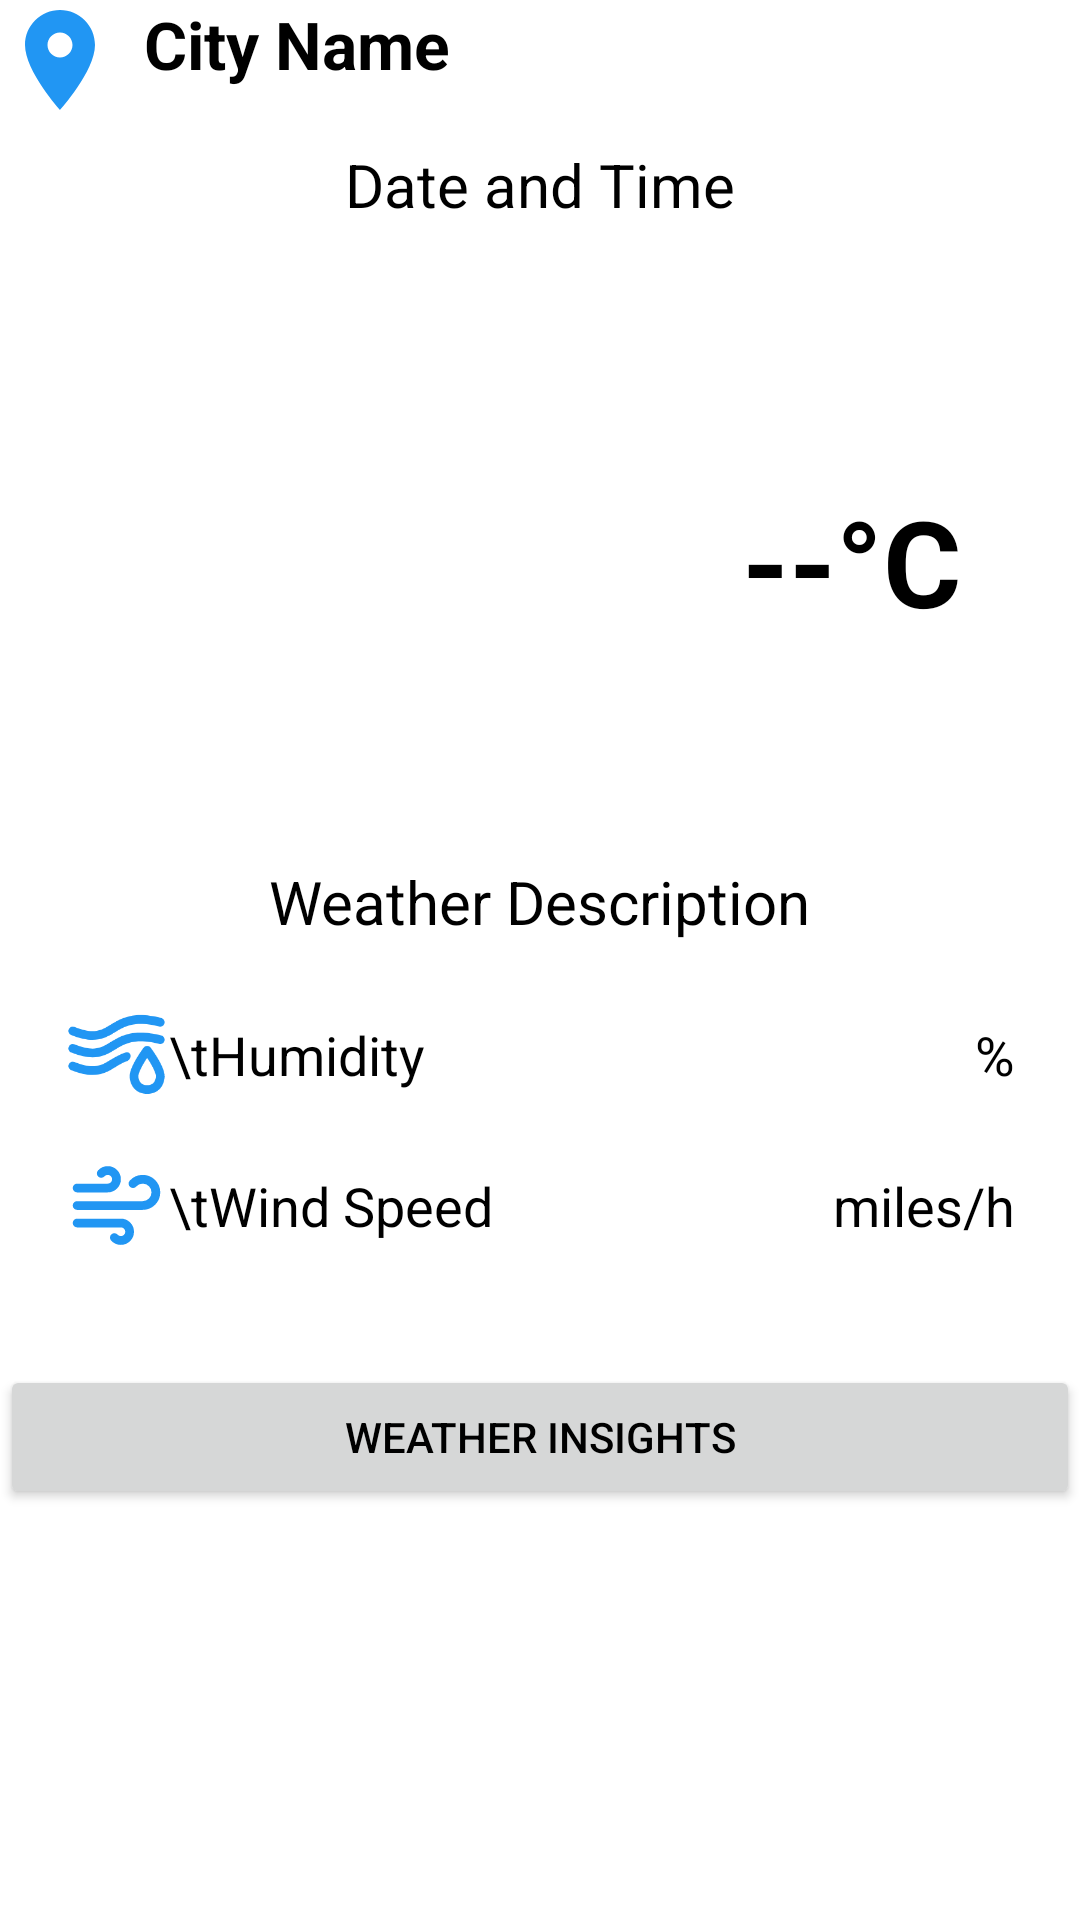

Icons on this 1080 x 1920 Android screen, each with the point to tap as [x,y]:
Map Icon: [60,60]
